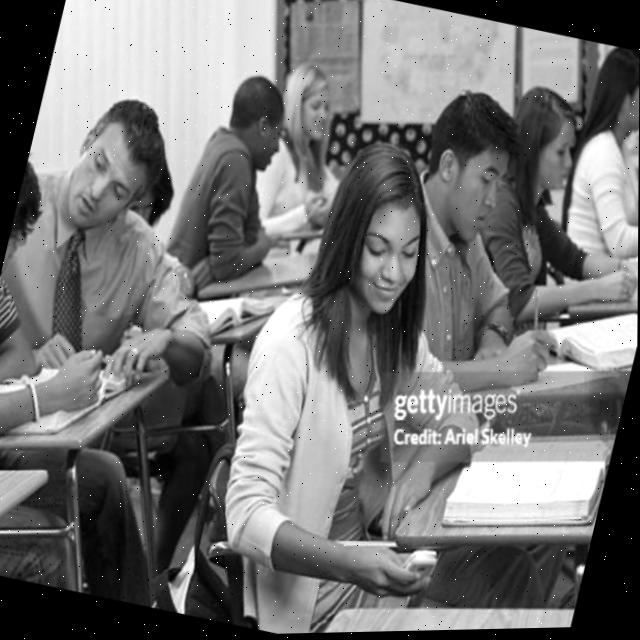phone: (396, 542, 445, 587)
